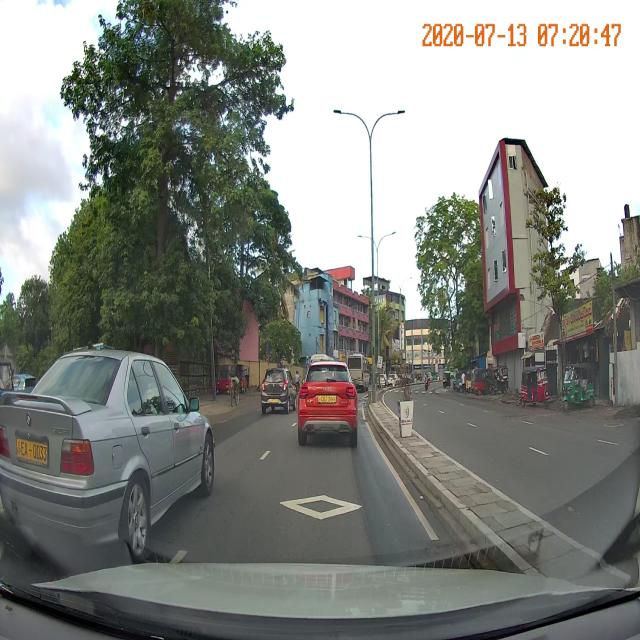diamond: (206, 473, 439, 540)
